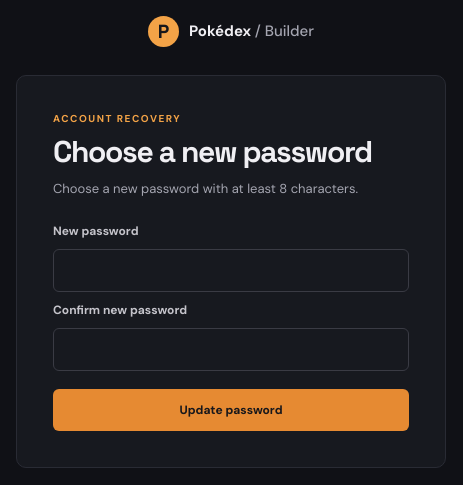
Test case: password recovery › updates the password after a valid recovery session
Type "newpassword123" into the password field labelled "New password" at (231, 271), box left=53, top=249, right=409, bottom=292
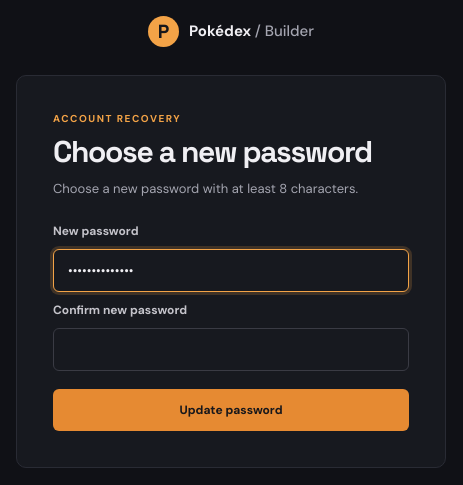
Type "newpassword123" into the password field labelled "Confirm new password" at (231, 350), box left=53, top=328, right=409, bottom=371
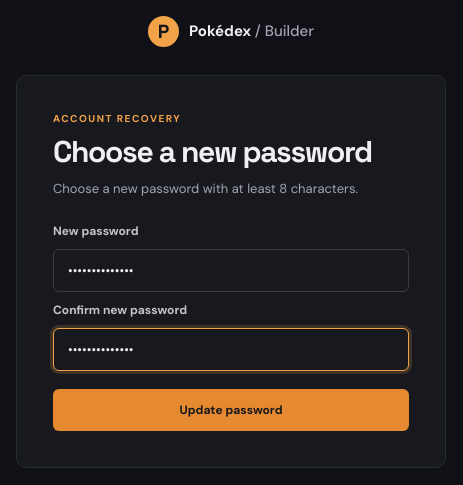
Click the button "Update password" at (231, 410), box left=53, top=389, right=409, bottom=431
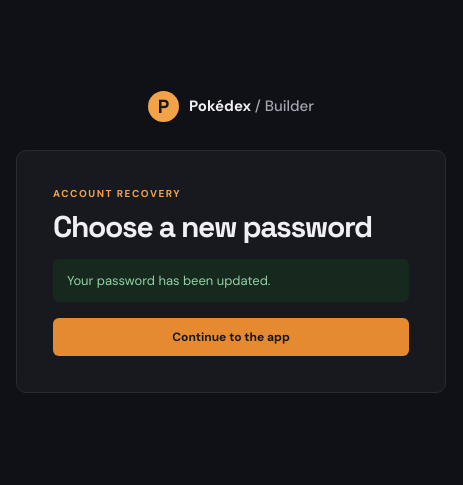
expect the message shows "password has been updated": met, box left=67, top=272, right=270, bottom=289
